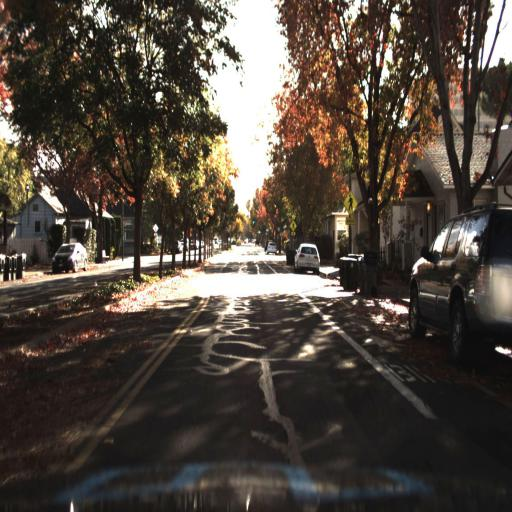car: (406, 207, 512, 364), (52, 236, 89, 276), (52, 241, 87, 273), (289, 241, 321, 272), (295, 242, 318, 271), (266, 238, 278, 258)
